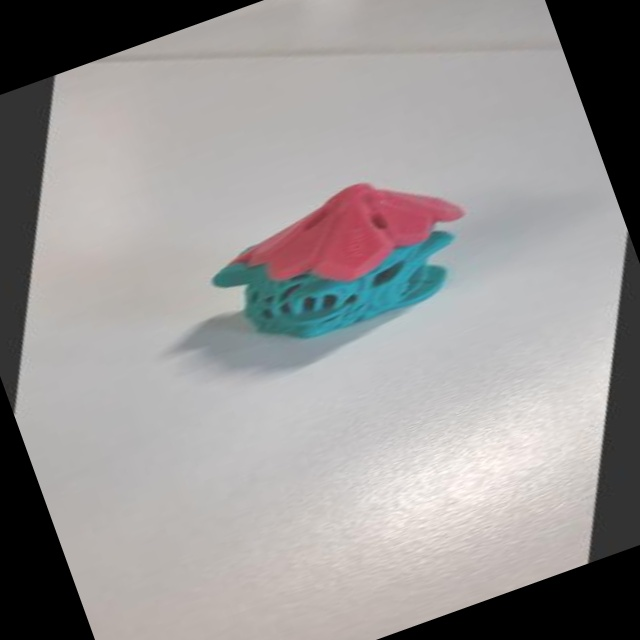House: (82, 102, 550, 440)
